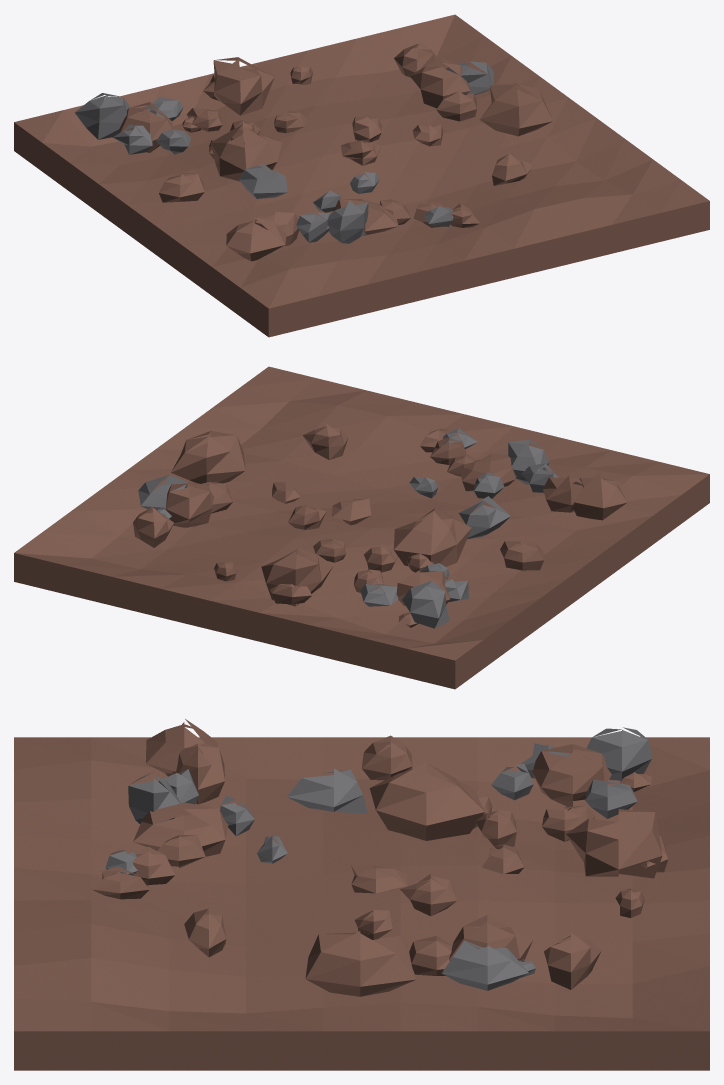
File: volcano-and-lava-fields-volcano-and-lava-fields-aa-rub-df942eae__37442.glb
3 views of the same model, one above another, from view 1: azimuth 30°, elevation 25°; view 2: azimuth 150°, elevation 25°; view 3: azimuth 270°, elevation 25° (orthographic). The views are drawn at different scales.
Parts seen in each view (by area): view 1: volcano-and-lava-fields-aa-rubble-field-module; view 2: volcano-and-lava-fields-aa-rubble-field-module; view 3: volcano-and-lava-fields-aa-rubble-field-module.
Part boxes in pixels (x1=…): volcano-and-lava-fields-aa-rubble-field-module: x1=14, y1=14, x2=709, y2=337; volcano-and-lava-fields-aa-rubble-field-module: x1=14, y1=366, x2=709, y2=689; volcano-and-lava-fields-aa-rubble-field-module: x1=14, y1=719, x2=709, y2=1070.
Bounding box in the file's own units: 4 × 0.6275 × 4.
Materials: 2 (2 with a texture image).
